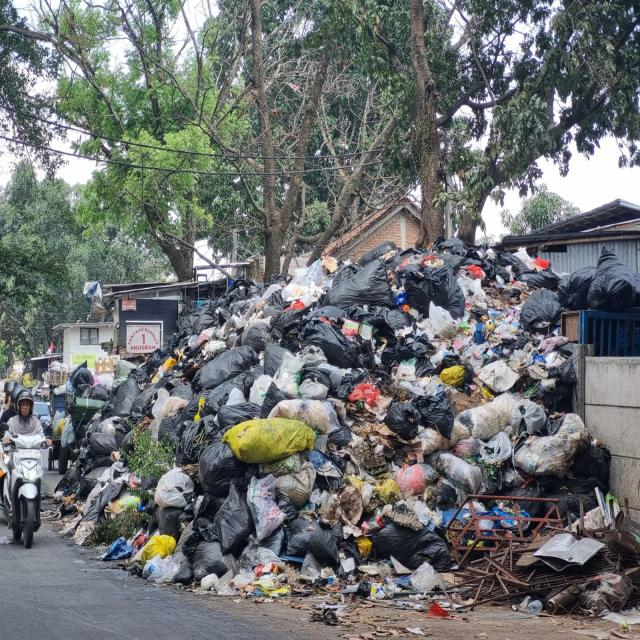trash: (101, 254, 640, 620)
